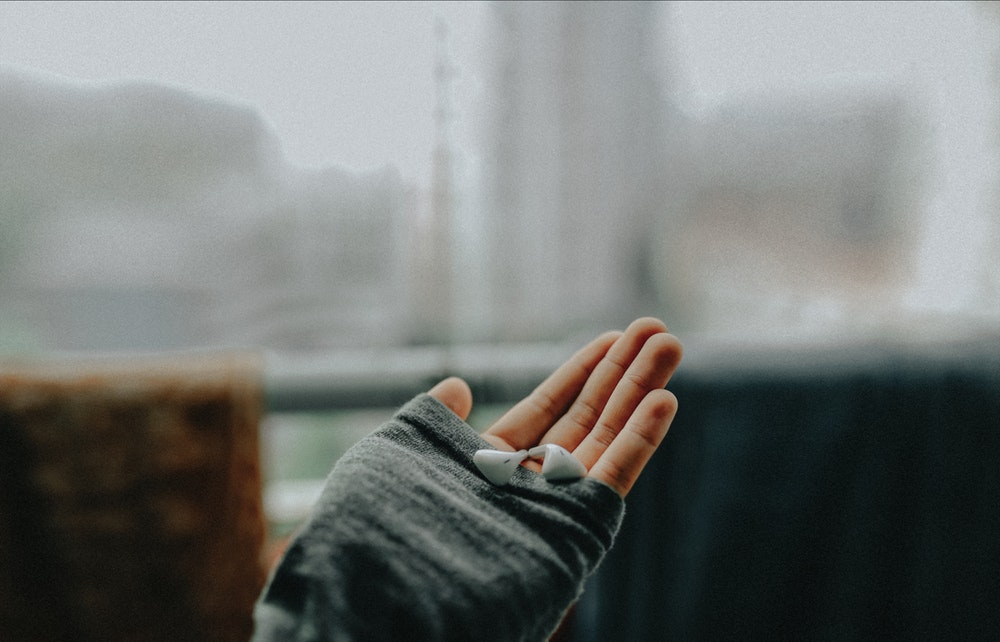palm: (327, 436, 580, 575)
